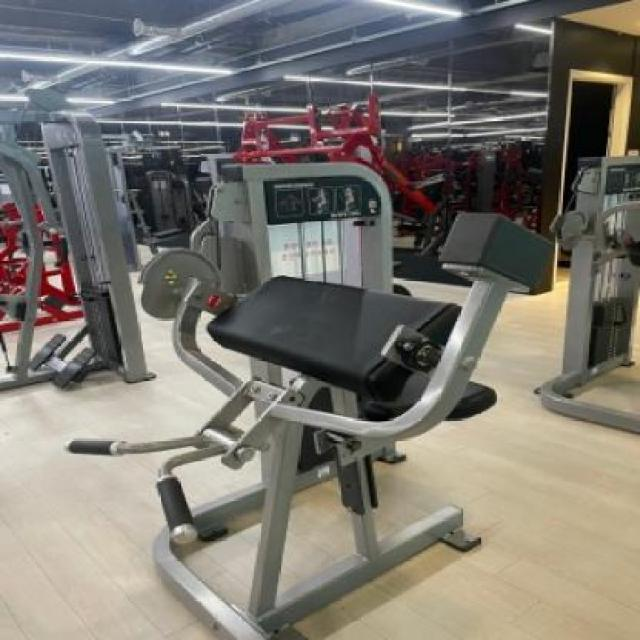arm curl machine: (68, 212, 552, 640)
